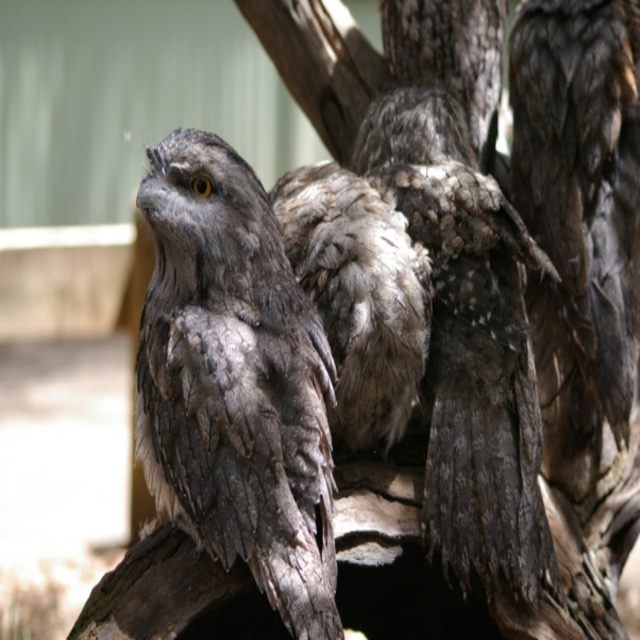Owl: (132, 0, 639, 638)
